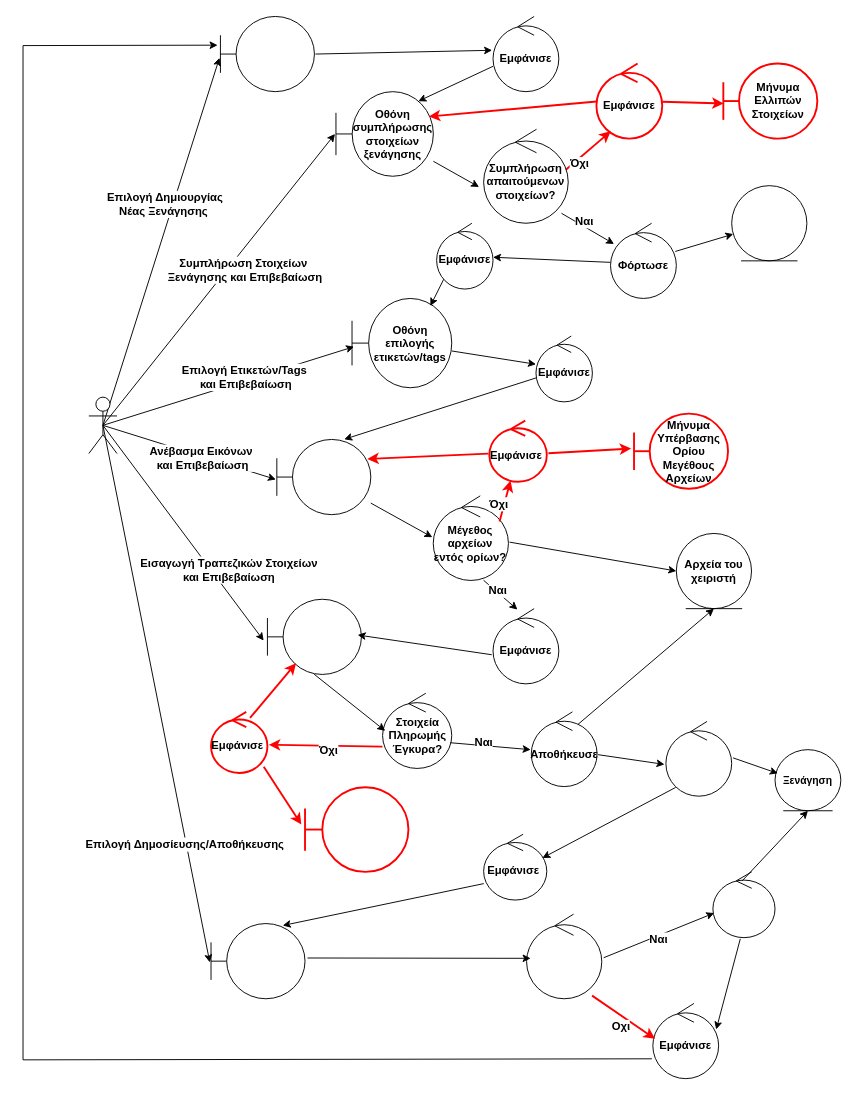
Some shapes in this 857 by 1095 pixel diagram are drawn without their labels. The shapes that lost their labels are listed below. From the top down, each one's centre as x and y in pixels, then its label:
(x=266, y=54): Οθόνη Ιστορικού Ξεναγήσεων
(x=769, y=223): Ετικέτες/Tags
(x=102, y=425): Ξεναγός / Πολιτιστικός Οργανισμός
(x=323, y=477): Οθόνη ανάρτησης εικόνων
(x=313, y=636): Οθόνη Εισαγωγής Τρόπου Πληρωμής
(x=698, y=758): Καταχώρησε
(x=356, y=829): Μήνυμα Αποτυχίας Επαλήθευσης Στοιχείων ΠΛηρωμής
(x=743, y=904): Κάνε δημόσια
(x=257, y=961): Οθόνη για Δημοσίευση Ξενάγησης
(x=564, y=956): Επιλέχθηκε Δημοσίευση?
